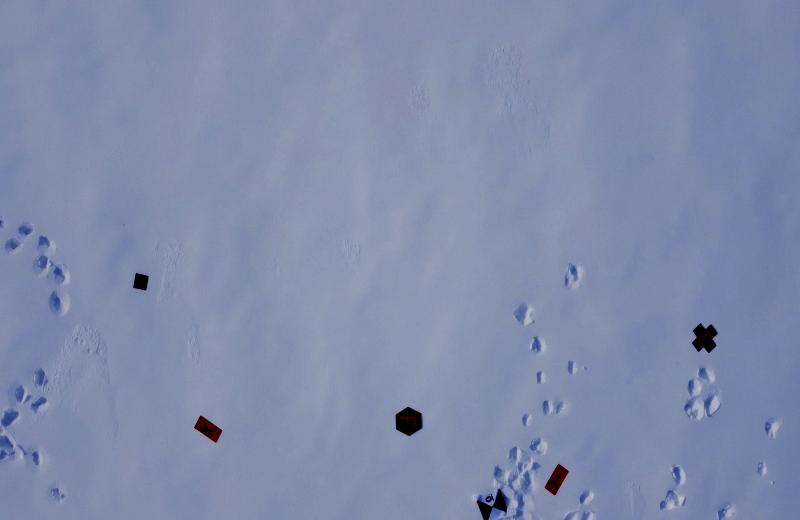Cross: (690, 320, 720, 358)
Hexagon: (392, 404, 425, 438)
Rectangle: (192, 412, 226, 446), (544, 460, 571, 500)
Square: (130, 270, 150, 292)
